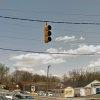Traffic light: (35, 16, 62, 53)
